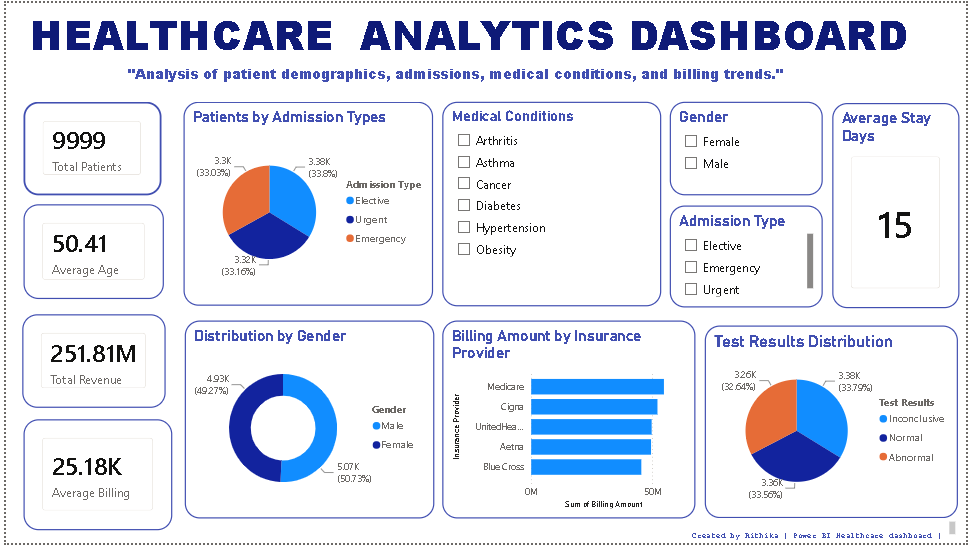

This screenshot's page, from the dashboard's own definition file:
{"tool":"powerbi","page":{"name":"Page 1","canvas":[1280,720],"ordinal":0},"visuals":[{"type":"cardVisual","title":"Total  Patients","fields":{"Data":["CountNonNull(Sheet1.Age)"]},"box":[22.8,130.9,183.7,124.9],"z":0},{"type":"cardVisual","fields":{"Data":["Sum(Sheet1.Billing Amount)"]},"box":[21.6,414.3,190.9,124.9],"z":1000},{"type":"pieChart","title":"Patients by Admission Types","fields":{"Category":["Sheet1.Admission Type"],"Y":["CountNonNull(Sheet1.Age)"]},"box":[237.2,131.4,332.6,272.1],"z":2000},{"type":"cardVisual","fields":{"Data":["Avg(Sheet1.Billing Amount)"]},"box":[22.8,554.7,198.1,147.7],"z":3000},{"type":"donutChart","fields":{"Category":["Sheet1.Gender"],"Y":["CountNonNull(Sheet1.Age)"]},"box":[237.7,422.7,332.6,264.2],"z":4000},{"type":"cardVisual","fields":{"Data":["Avg(Sheet1.Age)"]},"box":[22.8,267.8,187.3,126.1],"z":5000},{"type":"pieChart","title":"Test Results Distribution","fields":{"Category":["Sheet1.Test Results"],"Y":["CountNonNull(Sheet1.Age)"]},"box":[931.8,429.9,337.4,257],"z":6000},{"type":"textbox","box":[9.6,0,1270.7,131.7],"z":7000},{"type":"slicer","title":"Medical Conditions","fields":{"Values":["Sheet1.Medical Condition"]},"box":[581.2,130.9,291.8,272.6],"z":8000},{"type":"slicer","title":"Gender","fields":{"Values":["Sheet1.Gender"]},"box":[885,130.9,204.1,124.9],"z":9000},{"type":"slicer","title":"Admission Type","fields":{"Values":["Sheet1.Admission Type"]},"box":[885,270.2,204.1,135.7],"z":10000},{"type":"clusteredBarChart","title":"Billing Amount by Insurance Provider","fields":{"Category":["Sheet1.Insurance Provider"],"Y":["Sum(Sheet1.Billing Amount)"]},"box":[581.2,422.7,337.4,264.2],"z":11000},{"type":"cardVisual","title":"Average Stay Days","fields":{"Data":["Sheet1.Average Stay Days"]},"box":[1101.2,132.6,169.8,273.3],"z":12000},{"type":"textbox","box":[903,686.8,367.4,33.6],"z":13000}]}

Visuals, with their boxes in screenshot pixels (x1, y1, x2, y2), scaled from the page's 1280x720 canvas onto the 972x545 screenshot:
"Total  Patients" cardVisual: box=[17, 99, 157, 194]
cardVisual - Sum(Sheet1.Billing Amount): box=[16, 314, 161, 408]
"Patients by Admission Types" pieChart: box=[180, 99, 433, 305]
cardVisual - Avg(Sheet1.Billing Amount): box=[17, 420, 168, 532]
donutChart - Sheet1.Gender x CountNonNull(Sheet1.Age): box=[181, 320, 433, 520]
cardVisual - Avg(Sheet1.Age): box=[17, 203, 160, 298]
"Test Results Distribution" pieChart: box=[708, 325, 964, 520]
textbox: box=[7, 0, 971, 100]
"Medical Conditions" slicer: box=[441, 99, 663, 305]
"Gender" slicer: box=[672, 99, 827, 194]
"Admission Type" slicer: box=[672, 205, 827, 307]
"Billing Amount by Insurance Provider" clusteredBarChart: box=[441, 320, 698, 520]
"Average Stay Days" cardVisual: box=[836, 100, 965, 307]
textbox: box=[686, 520, 965, 544]
